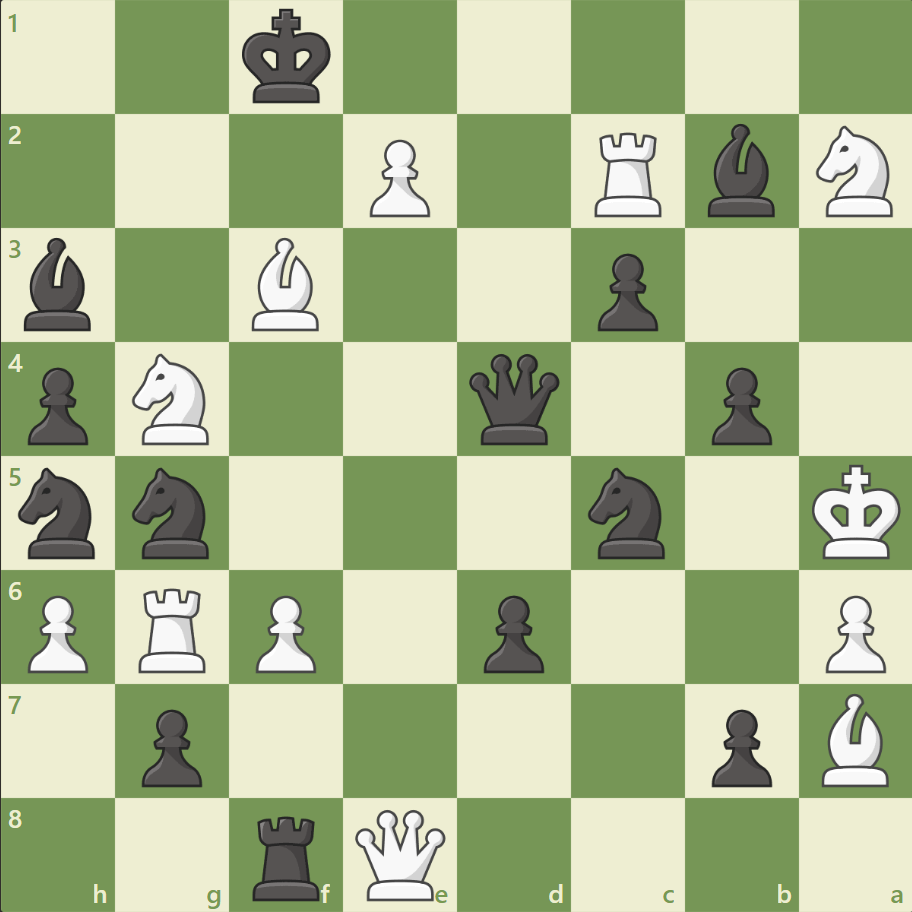B: (812, 687, 896, 790), (244, 233, 328, 336)
K: (806, 458, 906, 566)
N: (124, 348, 222, 450), (806, 121, 903, 223)
P: (247, 586, 322, 677), (20, 586, 95, 677), (815, 586, 889, 677), (361, 132, 435, 223)
Q: (351, 804, 450, 903)
R: (587, 125, 670, 222), (133, 579, 215, 676)
b: (17, 233, 101, 336), (698, 120, 782, 222)
k: (238, 4, 338, 112)
n: (124, 461, 222, 564), (579, 461, 676, 564), (11, 461, 108, 564)
p: (701, 700, 776, 791), (133, 700, 208, 791), (474, 586, 549, 677), (701, 359, 776, 450), (20, 359, 95, 450), (588, 246, 662, 337)
q: (464, 349, 563, 449)
r: (246, 806, 329, 904)
